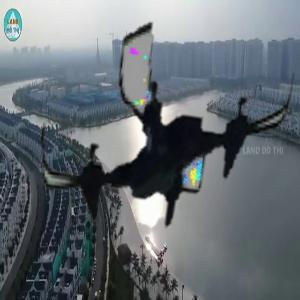drone: (41, 14, 287, 260)
